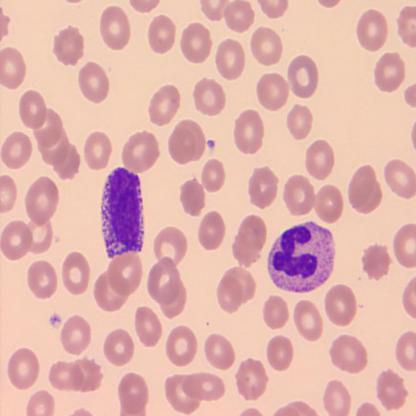Myelocyte: (266, 222, 335, 295), (102, 164, 148, 255)
